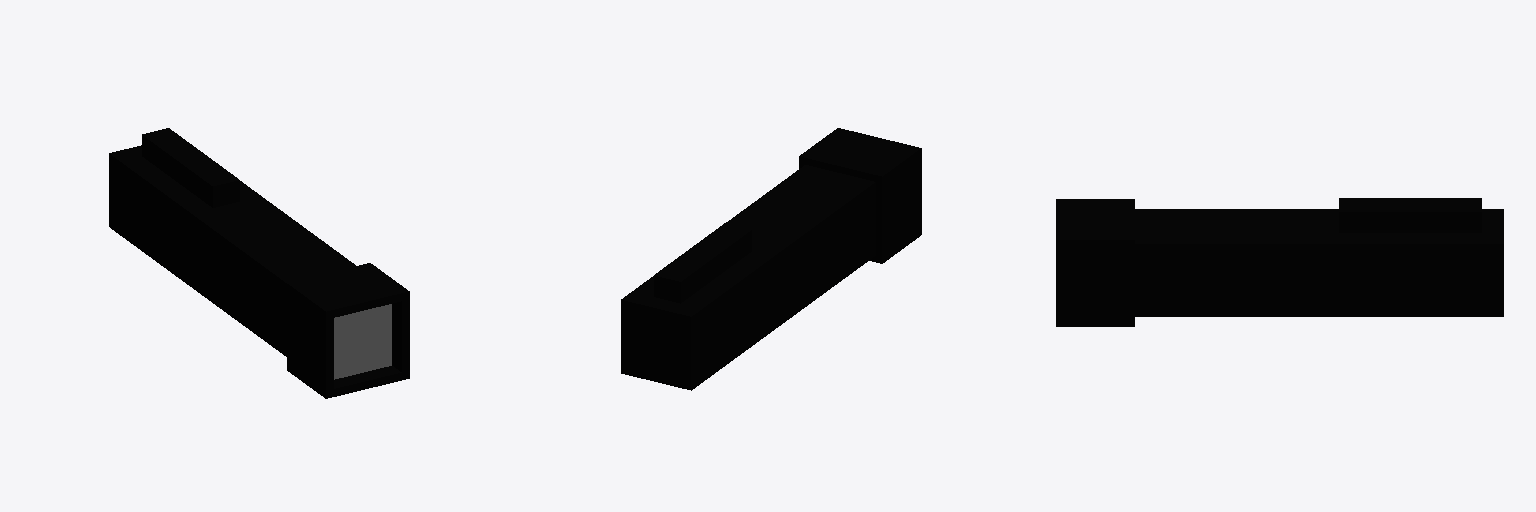
Rendered from Flashlight.obj.
The picture shows the model from 3 angles: view 1: azimuth 30°, elevation 25°; view 2: azimuth 150°, elevation 25°; view 3: azimuth 270°, elevation 25°; orthographic projection.
Visible parts, largest first — view 1: Flashlight_Cube.036; view 2: Flashlight_Cube.036; view 3: Flashlight_Cube.036.
Part boxes in pixels (x1,y1,x2,y2): Flashlight_Cube.036: (109,128,409,398); Flashlight_Cube.036: (621,128,921,390); Flashlight_Cube.036: (1056,198,1503,326).
Size of the model in its own units: 0.0188 by 0.022 by 0.0872.